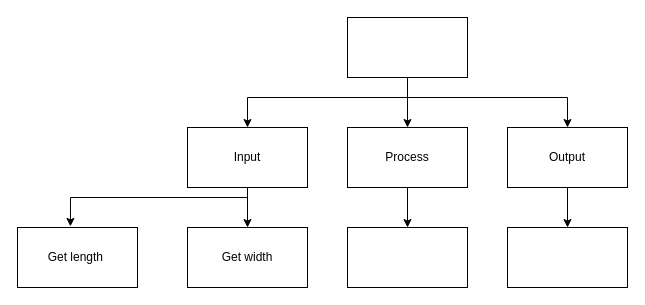
The diagram is 645 pixels wide and 305 high, and some of its shapes have lost their labels. Here are the shapes that lost their labels. From the top down, the centre of each, then its label:
[407,47]: Square or not
[407,257]: Length = Width
[567,257]: Show if its the Square
